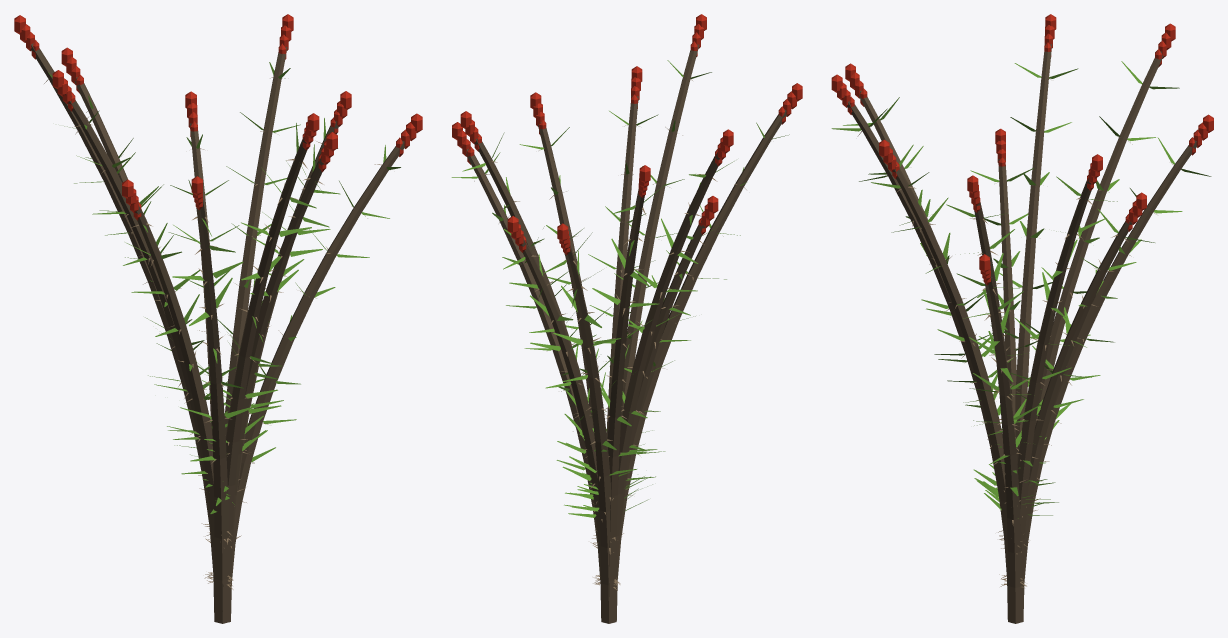
Rendered from ocotillo.glb.
The picture shows the model from 3 angles, left to right: view 1: azimuth 30°, elevation 25°; view 2: azimuth 150°, elevation 25°; view 3: azimuth 270°, elevation 25°; orthographic projection. The views are drawn at different scales.
Parts seen in each view (by area): view 1: Cane_8, Cane_9, Cane_1, Cane_7, Cane_2, Cane_10, Cane_6, Cane_5, Cane_11, Cane_4, Cane_3; view 2: Cane_4, Cane_5, Cane_6, Cane_8, Cane_3, Cane_9, Cane_1, Cane_10, Cane_7, Cane_2, Cane_11; view 3: Cane_1, Cane_10, Cane_2, Cane_6, Cane_3, Cane_5, Cane_4, Cane_9, Cane_7, Cane_11, Cane_8.
Part boxes in pixels (bbox=[...]): Cane_8: bbox=[172, 176, 255, 622]; Cane_9: bbox=[202, 113, 319, 623]; Cane_1: bbox=[210, 113, 422, 622]; Cane_7: bbox=[122, 179, 233, 623]; Cane_2: bbox=[208, 14, 300, 580]; Cane_10: bbox=[206, 132, 337, 595]; Cane_6: bbox=[52, 70, 230, 622]; Cane_5: bbox=[14, 15, 231, 612]; Cane_11: bbox=[208, 91, 351, 602]; Cane_4: bbox=[61, 47, 231, 582]; Cane_3: bbox=[168, 91, 254, 583]; Cane_4: bbox=[543, 223, 638, 623]; Cane_5: bbox=[577, 165, 666, 622]; Cane_6: bbox=[584, 129, 734, 623]; Cane_8: bbox=[590, 83, 802, 620]; Cane_3: bbox=[503, 216, 633, 612]; Cane_9: bbox=[582, 14, 711, 578]; Cane_1: bbox=[451, 122, 614, 599]; Cane_10: bbox=[577, 66, 658, 584]; Cane_7: bbox=[583, 196, 719, 587]; Cane_2: bbox=[460, 111, 616, 617]; Cane_11: bbox=[519, 92, 617, 584]; Cane_1: bbox=[956, 254, 1041, 622]; Cane_10: bbox=[871, 139, 1033, 617]; Cane_2: bbox=[992, 154, 1117, 622]; Cane_6: bbox=[989, 14, 1078, 579]; Cane_3: bbox=[996, 192, 1154, 598]; Cane_5: bbox=[1004, 23, 1179, 622]; Cane_4: bbox=[1005, 114, 1213, 622]; Cane_9: bbox=[831, 74, 1031, 623]; Cane_7: bbox=[970, 128, 1043, 586]; Cane_11: bbox=[946, 175, 1039, 623]; Cane_8: bbox=[843, 63, 1031, 582].
Size of the model in its own units: 3.51 by 5.79 by 3.69.
